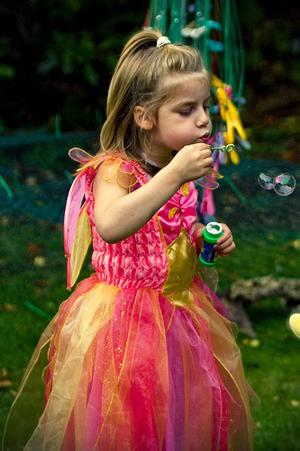person: (43, 25, 258, 449)
